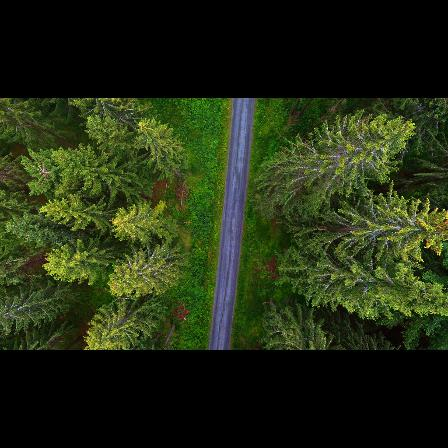Sick: (23, 150, 64, 190)
